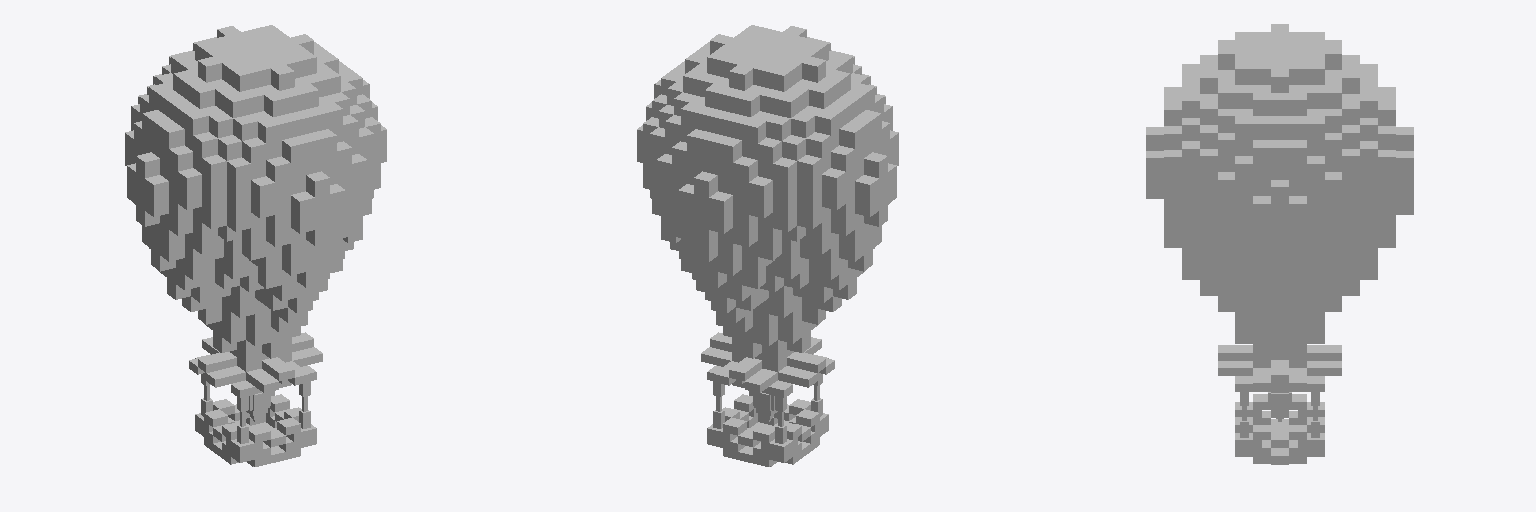
File: balloon.obj
3 renders of one model, left to right at view 1: azimuth 30°, elevation 25°; view 2: azimuth 150°, elevation 25°; view 3: azimuth 270°, elevation 25°, orthographic.
Parts seen in each view (by area): view 1: Land_of_Andryukhin_by_the_Hypixel_BT__-108_37_-13_to_-89_25; view 2: Land_of_Andryukhin_by_the_Hypixel_BT__-108_37_-13_to_-89_25; view 3: Land_of_Andryukhin_by_the_Hypixel_BT__-108_37_-13_to_-89_25.
Part boxes in pixels (x1,y1,x2,y2): Land_of_Andryukhin_by_the_Hypixel_BT__-108_37_-13_to_-89_25: (125,25,386,466); Land_of_Andryukhin_by_the_Hypixel_BT__-108_37_-13_to_-89_25: (637,25,898,466); Land_of_Andryukhin_by_the_Hypixel_BT__-108_37_-13_to_-89_25: (1146,24,1413,464).
Bounding box in the file's own units: 0.5769 × 0.9808 × 0.5769.